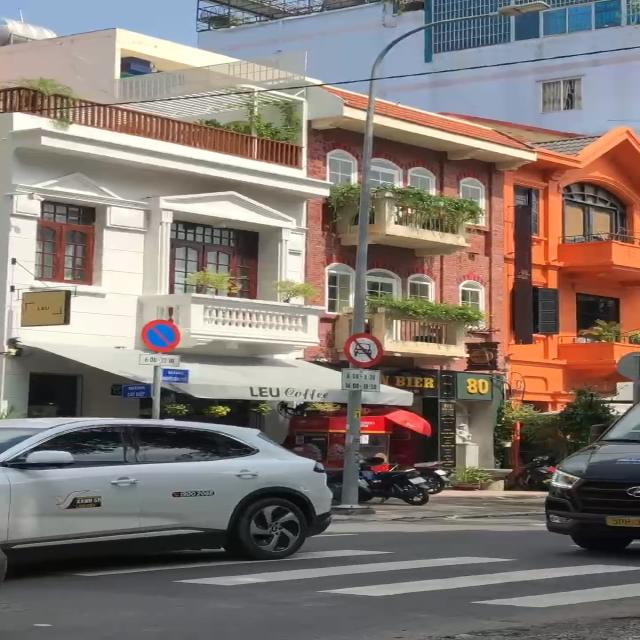Bien bao cam do xe: (138, 318, 188, 354)
Bien bao cam xe oto: (341, 328, 386, 371)
